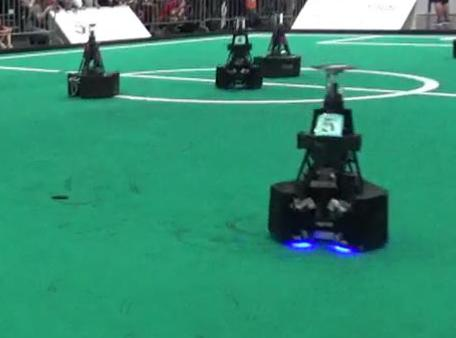robot: (268, 63, 392, 254), (65, 23, 122, 100), (249, 10, 306, 81), (213, 15, 264, 91)
